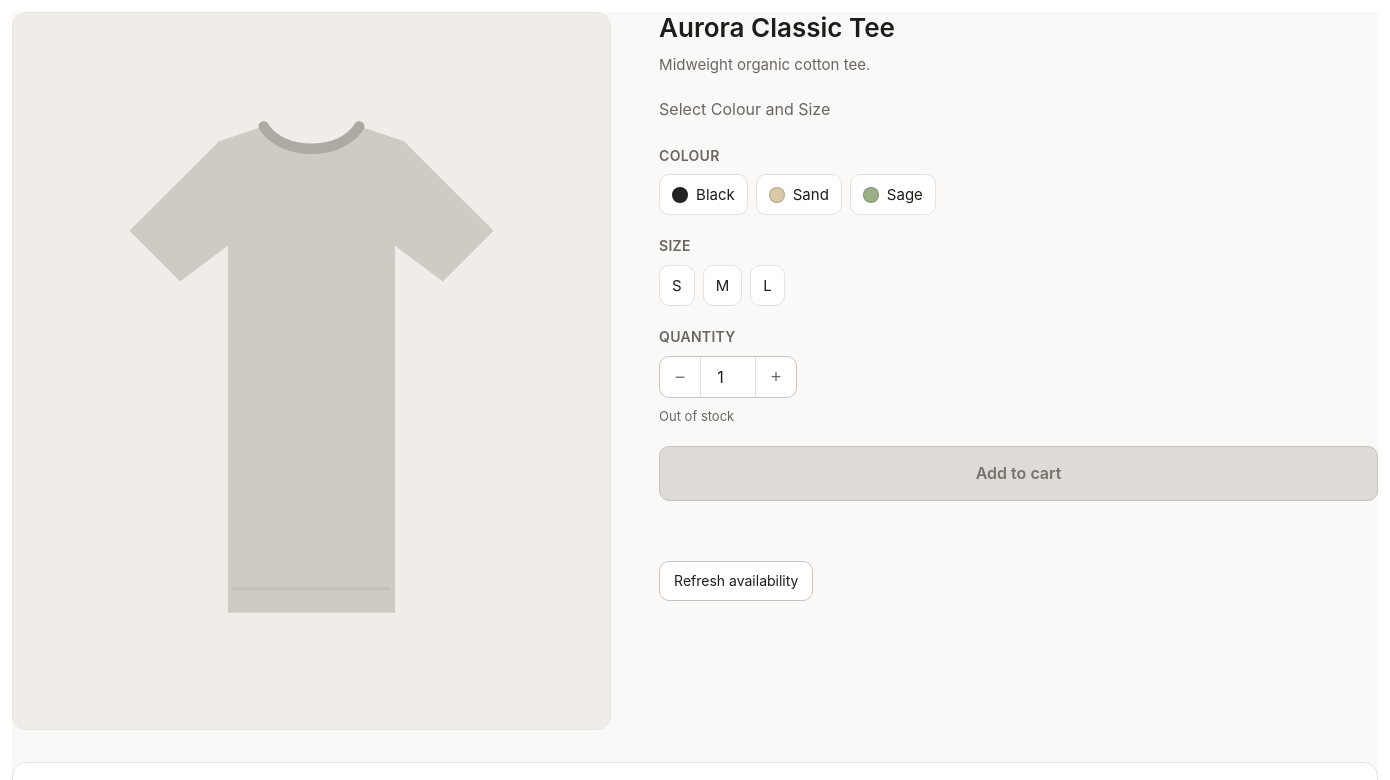
Test: variant resolution › keeps price, image and stock in step with the selection
Expected: the heading "Aurora Classic Tee" is shown, [659, 12, 895, 43]
Expected: the text "Select Colour and Size" is shown, [659, 99, 830, 119]
Click the radio button labelled "Black": (703, 195) [659, 174, 748, 216]
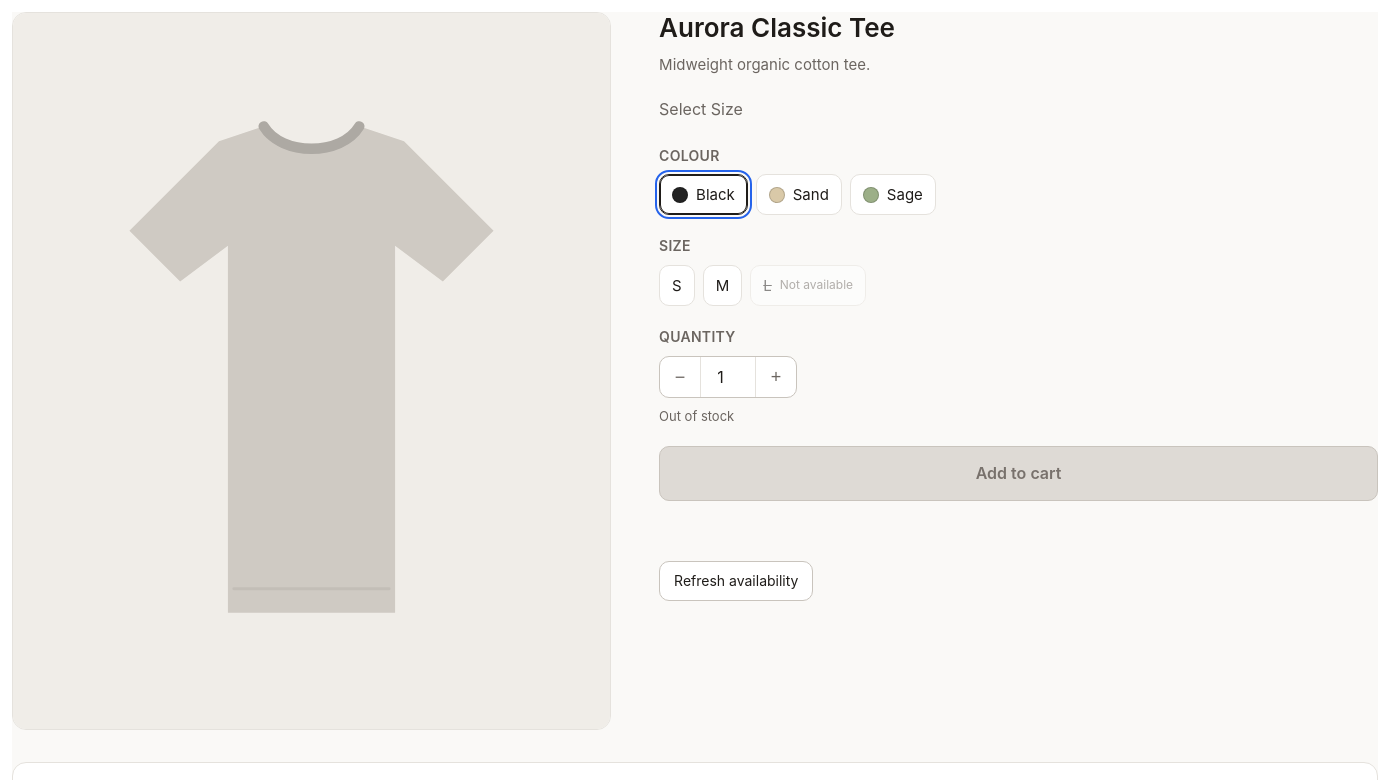
Click the radio button labelled "M": (722, 286) [703, 265, 742, 306]
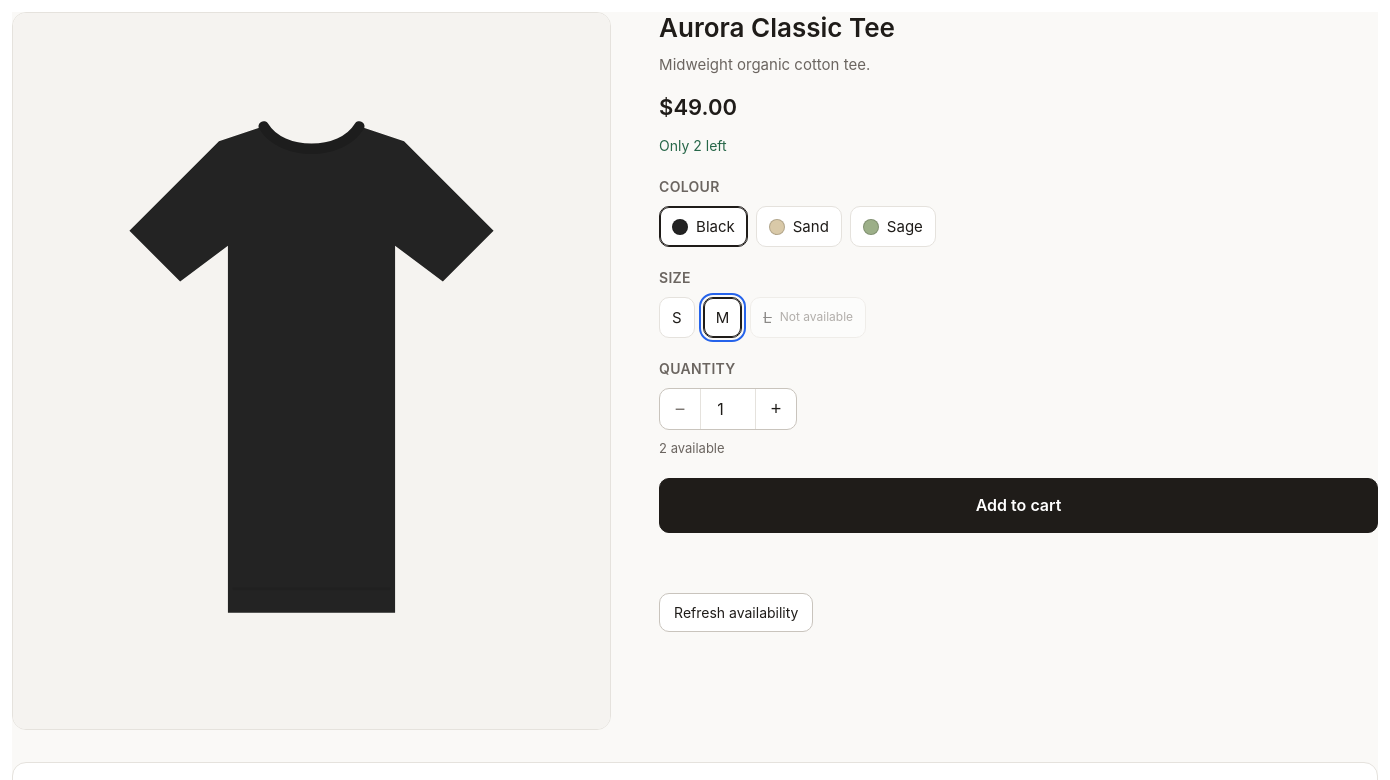
Expected: the text "$49.00" is shown, [659, 94, 737, 120]
Click the radio button labelled "Sage": (893, 227) [850, 206, 936, 247]
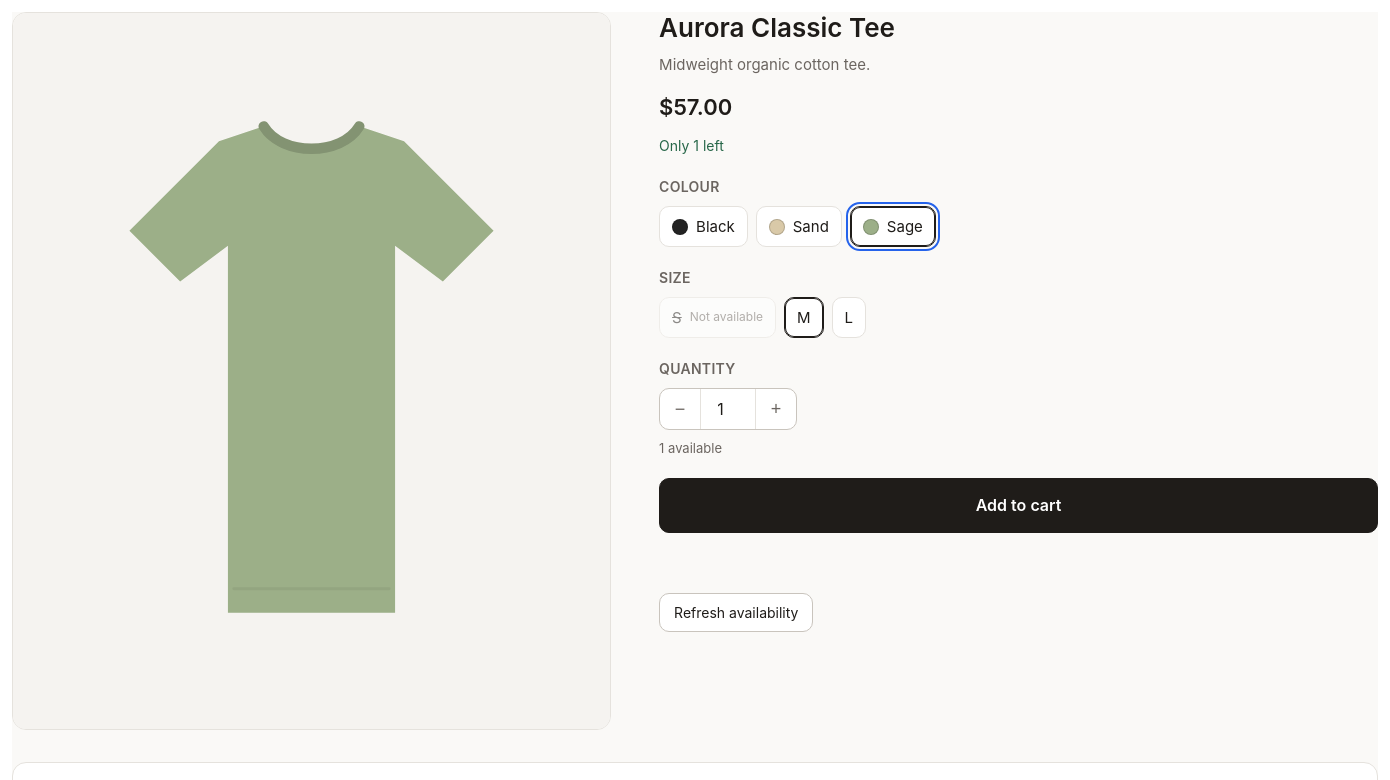
Expected: the text "$57.00" is shown, [659, 94, 732, 120]
Click the radio button labelled "Sand": (799, 227) [756, 206, 842, 247]
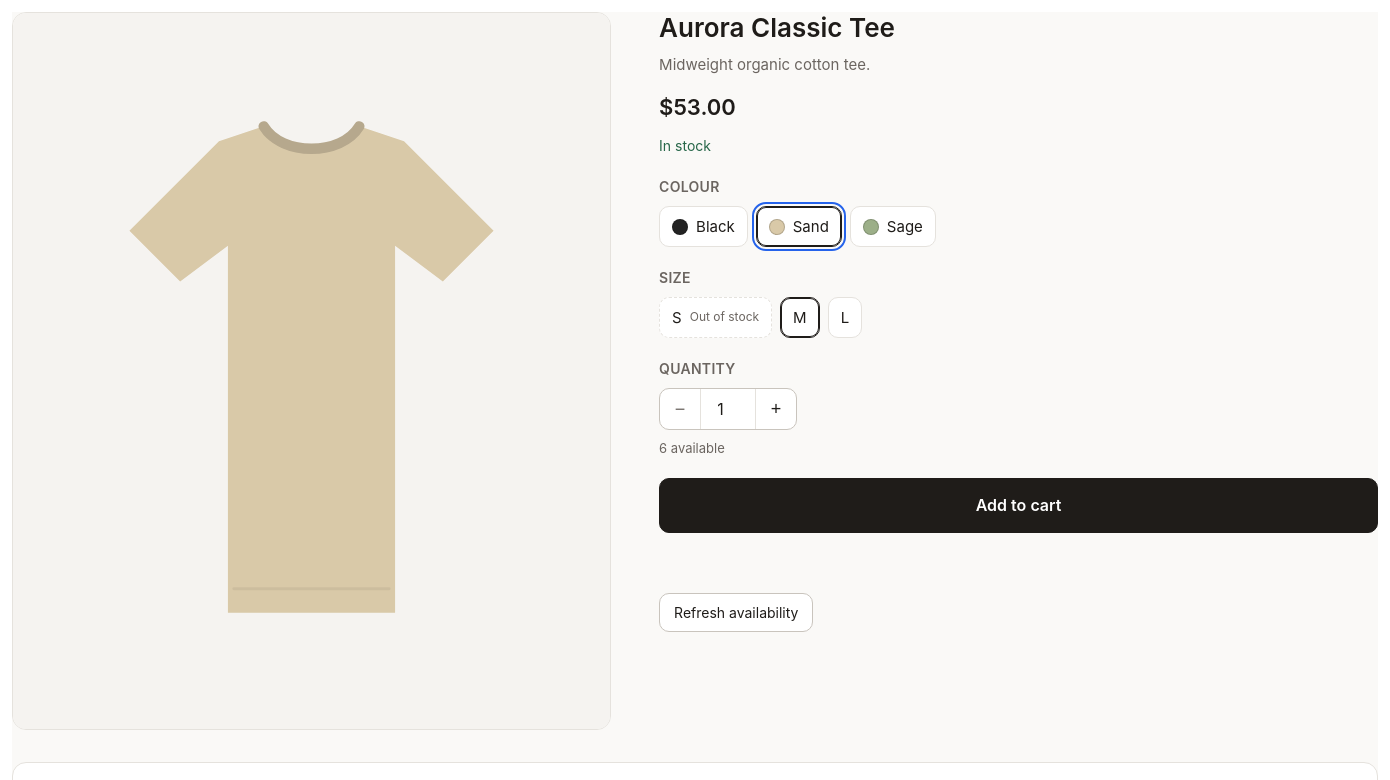
Click the radio button labelled "S Out of stock": (716, 317) [659, 297, 772, 338]
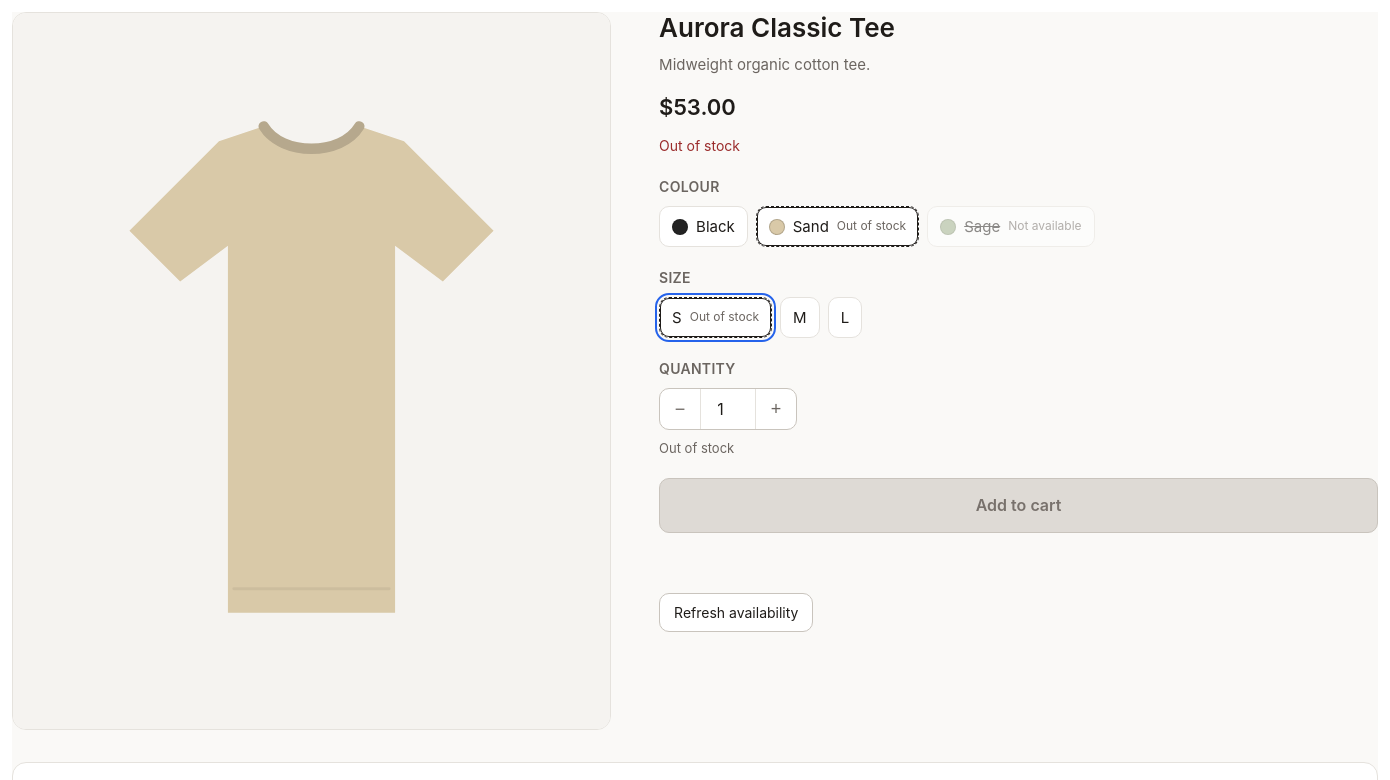
Expected: the text "$53.00" is shown, [659, 94, 736, 120]
Expected: the button "Add to cart" is disabled, [659, 478, 1378, 533]
